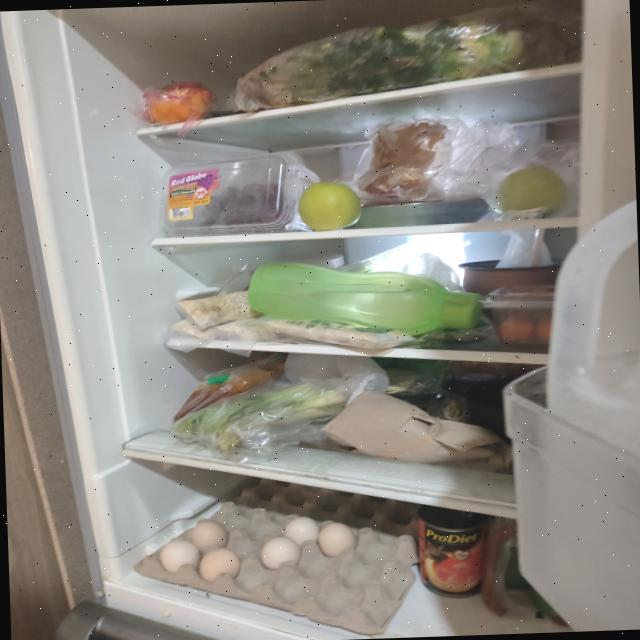apple: (495, 160, 567, 220), (296, 178, 361, 232)
egg: (132, 472, 421, 640)
grape: (158, 152, 302, 232)
leafy_greens: (231, 4, 584, 113)
orange: (143, 80, 217, 126)
pakchoy: (173, 382, 350, 449)
tempeh: (266, 308, 414, 354), (178, 289, 264, 329)
